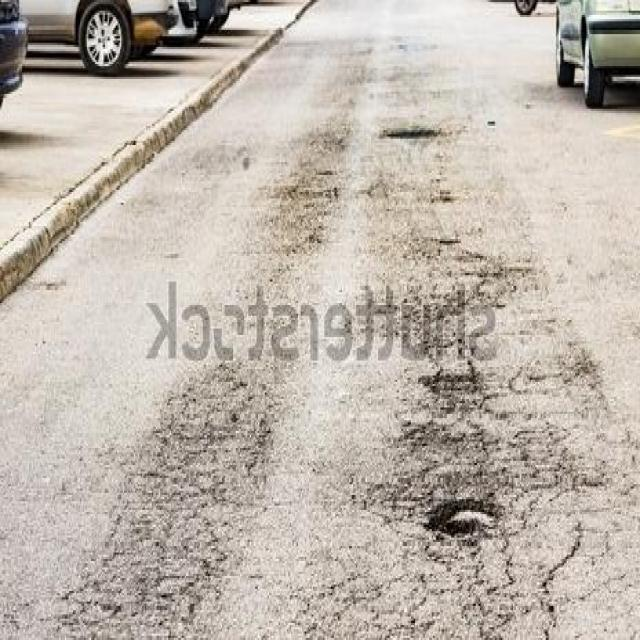pothole: (425, 493, 503, 542), (378, 119, 444, 143)
